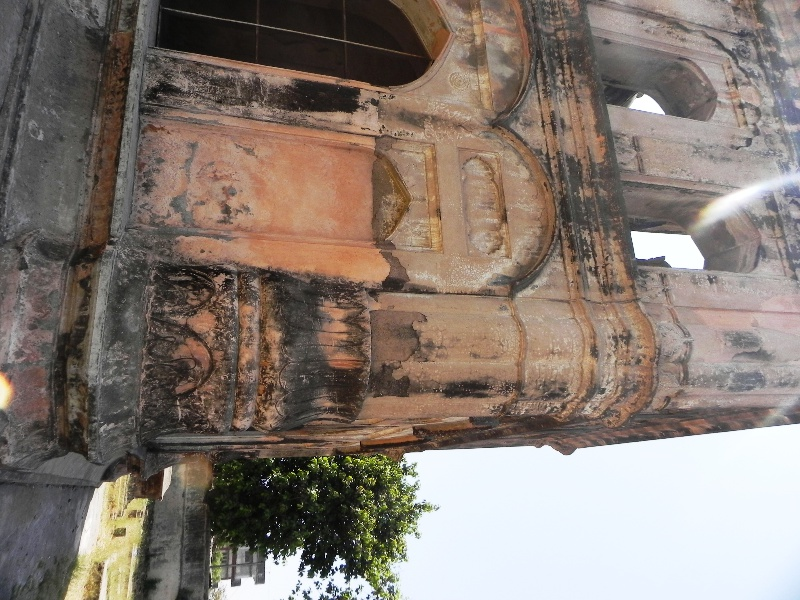Spalling: (378, 241, 414, 291), (369, 131, 401, 155)
